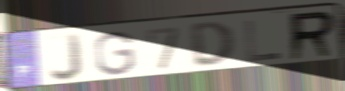7: (144, 25, 181, 72)
D: (188, 20, 238, 69)
G: (93, 30, 137, 77)
J: (48, 32, 86, 83)
L: (243, 19, 283, 63)
R: (288, 9, 338, 63)
